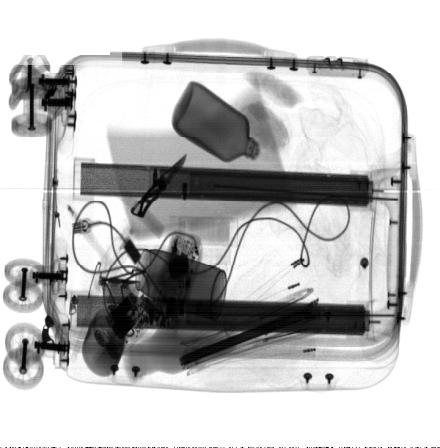Knife: (130, 153, 187, 219)
